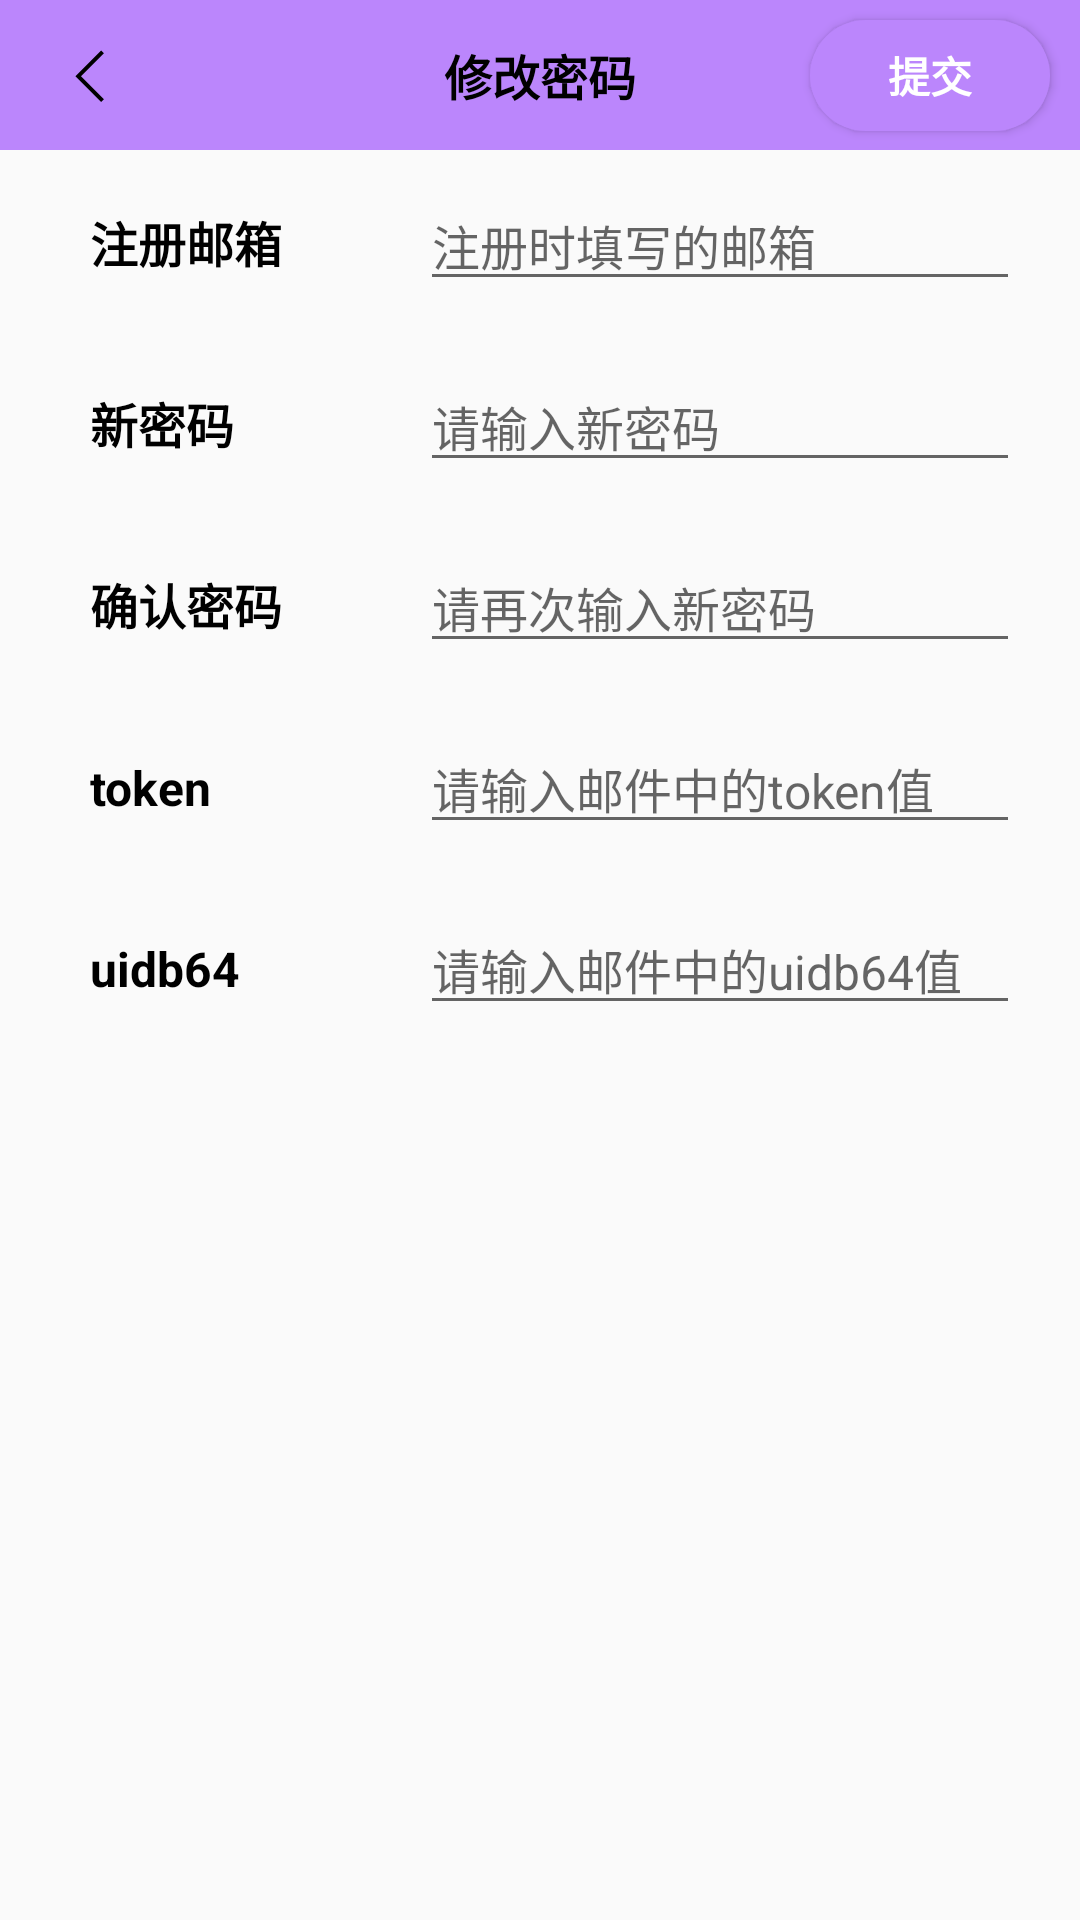

Locate icon controls on the screen. Image size 1080 × 1920, boxes as {"left": x1, "top": y1, "right": x2, "bottom": y2}.
return: {"left": 75, "top": 50, "right": 104, "bottom": 102}
